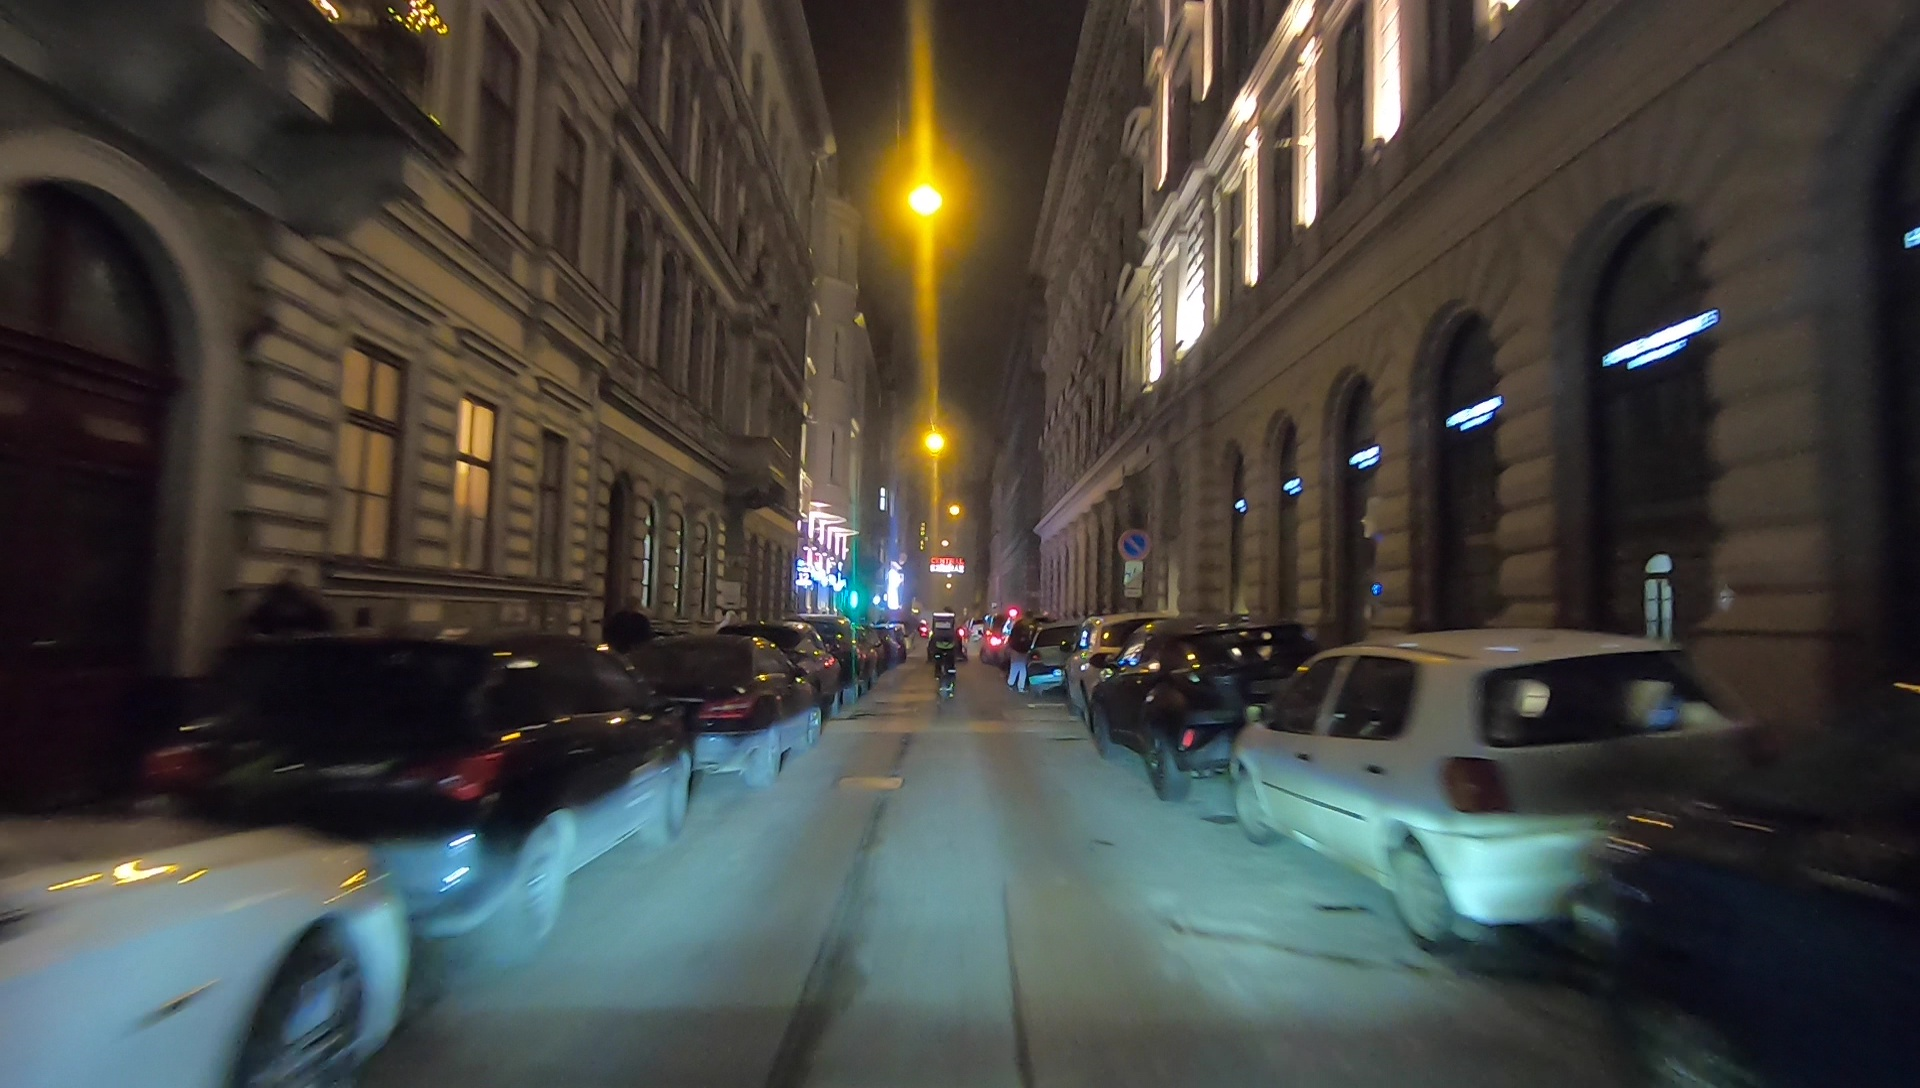person: (239, 569, 341, 749), (601, 593, 656, 704), (1008, 617, 1028, 695)
